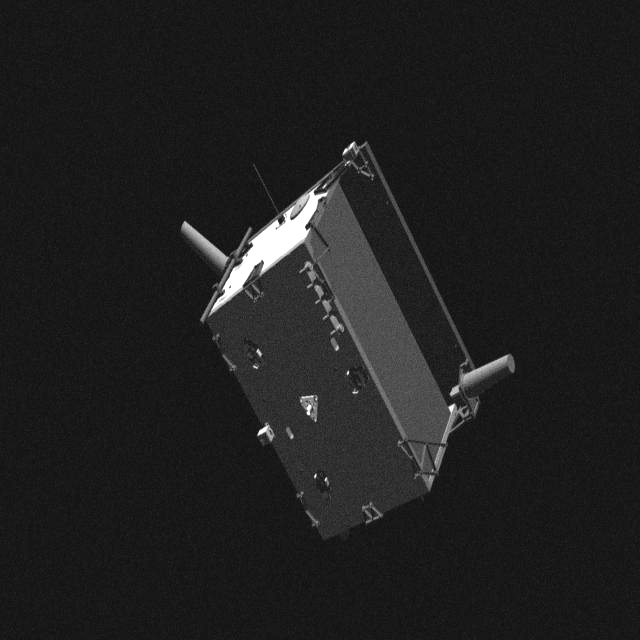medium_debris: (178, 138, 518, 542)
